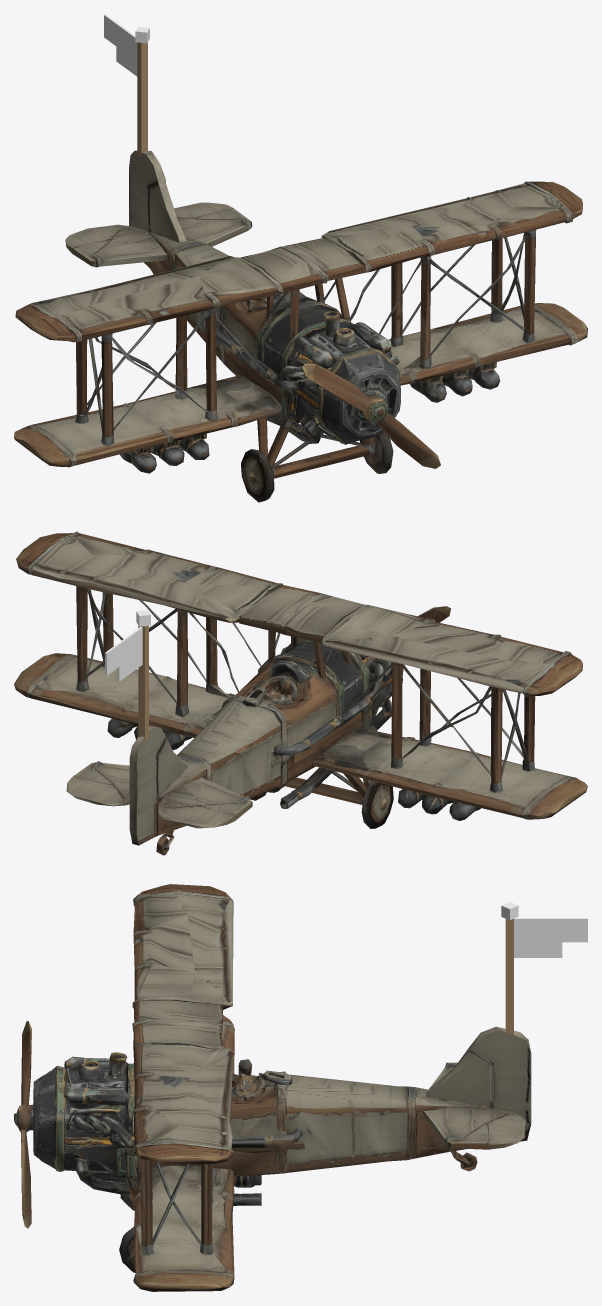
The model's file is biplane_bomber.glb.
3 renders of one model, top to bottom at view 1: azimuth 30°, elevation 25°; view 2: azimuth 150°, elevation 25°; view 3: azimuth 270°, elevation 25°, orthographic. The views are drawn at different scales.
Parts seen in each view (by area): view 1: biplane_bomber, Team_pennant; view 2: biplane_bomber, Team_pennant; view 3: biplane_bomber, Team_pennant.
Boxes of the visible parts, x1,y1,x2,y2 form: biplane_bomber: (14,150,587,502); Team_pennant: (104,14,149,156); biplane_bomber: (14,531,587,855); Team_pennant: (105,610,150,740); biplane_bomber: (14,884,531,1291); Team_pennant: (501,902,587,1034).
Bounding box in the file's own units: 1.9 × 1.09 × 1.68.
3 materials, 1 textured.
